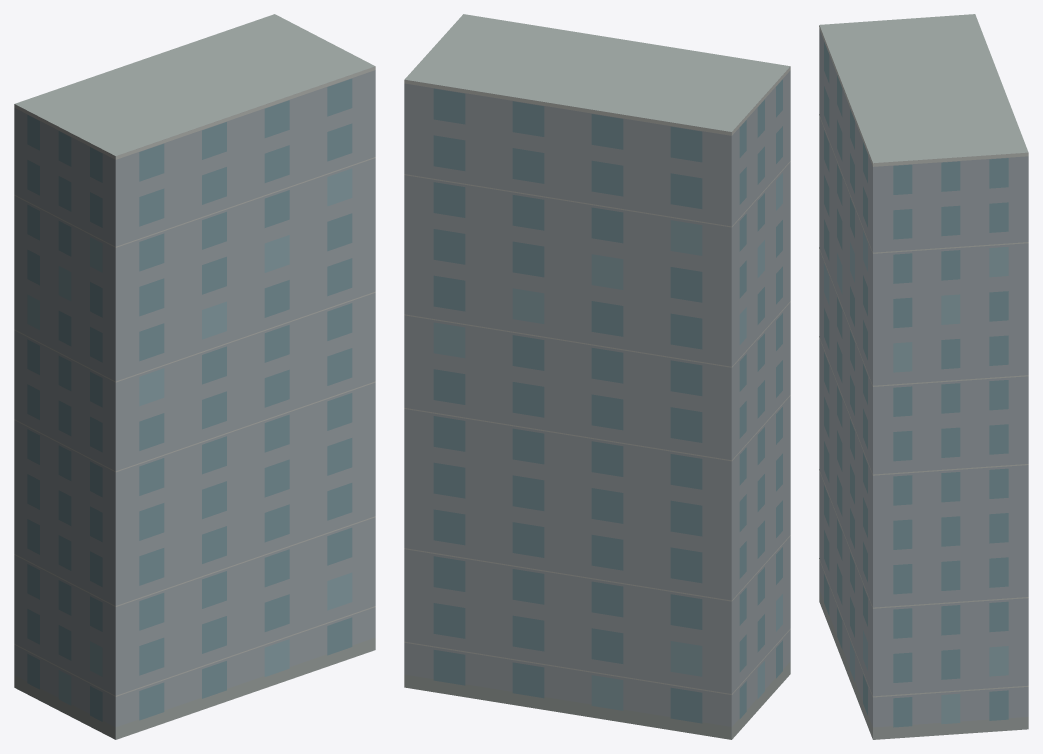
The model's file is survey-upis-32742720.glb.
3 renders of one model, left to right at view 1: azimuth 30°, elevation 25°; view 2: azimuth 150°, elevation 25°; view 3: azimuth 270°, elevation 25°, orthographic. The views are drawn at different scales.
Visible parts, largest first — view 1: survey-upis-32742720.tmp; view 2: survey-upis-32742720.tmp; view 3: survey-upis-32742720.tmp.
Part boxes in pixels (<box>): survey-upis-32742720.tmp: <box>14,14,375,739</box>; survey-upis-32742720.tmp: <box>404,14,790,739</box>; survey-upis-32742720.tmp: <box>819,14,1028,739</box>.
Bounding box in the file's own units: 21.25 × 38.25 × 12.61.
